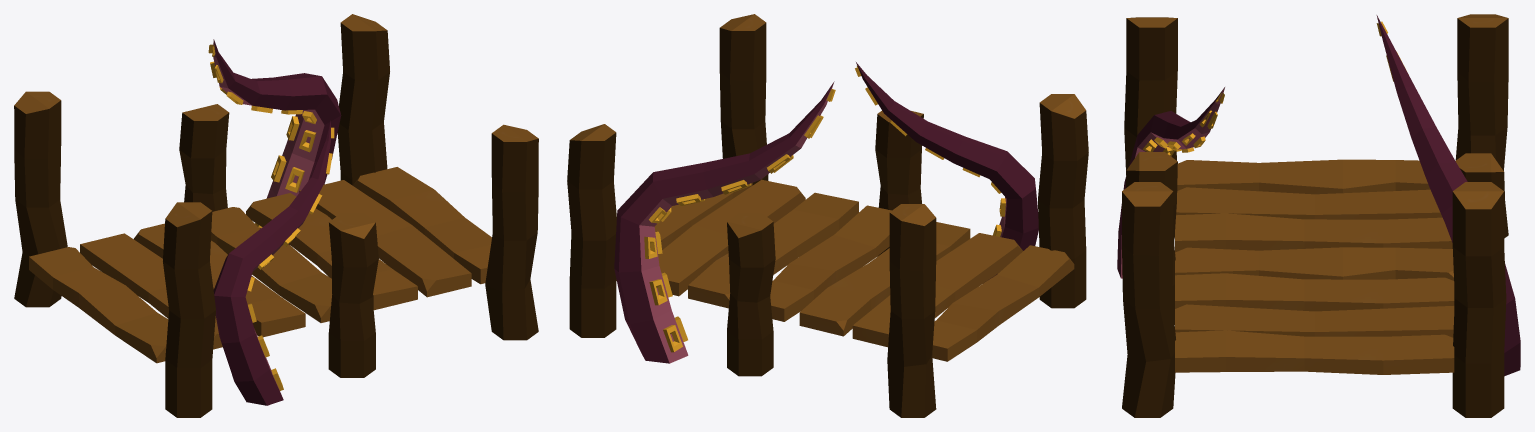
Rendered from Marina_Tentacles.fbx.
3 renders of one model, left to right at view 1: azimuth 30°, elevation 25°; view 2: azimuth 150°, elevation 25°; view 3: azimuth 270°, elevation 25°, orthographic. The views are drawn at different scales.
Parts seen in each view (by area): view 1: Marina_Tentacles; view 2: Marina_Tentacles; view 3: Marina_Tentacles.
Boxes of the visible parts, x1,y1,x2,y2 form: Marina_Tentacles: [14, 14, 538, 417]; Marina_Tentacles: [567, 14, 1088, 417]; Marina_Tentacles: [1117, 14, 1520, 417].
Size of the model in its own units: 2.55 by 1.71 by 2.16.
